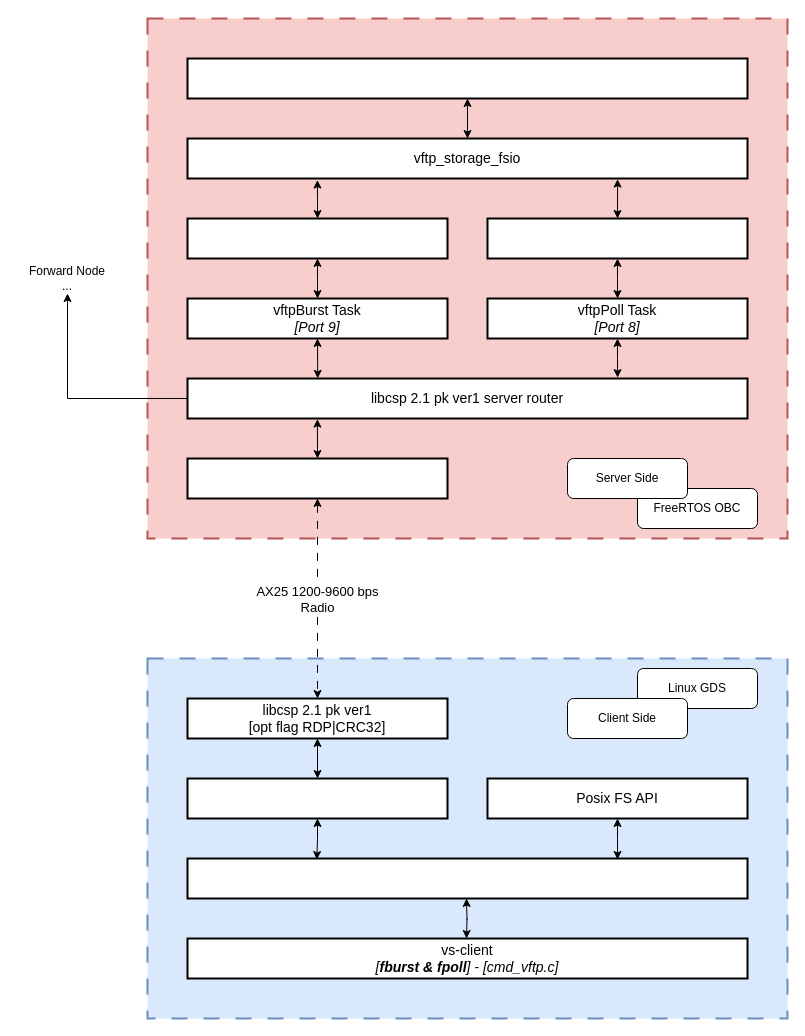
The diagram is 805 pixels wide and 1036 high, and some of its shapes have lost their labels. The centre of each missing label's shape, as x and y in pixels:
"[libvftp_client]" goes at (467,878).
"[vftp_link_csp1] MTU: 150up/211down" goes at (317,798).
"COMM" goes at (317,478).
"FsIO - HCC FAT System - SDCARD" goes at (467,78).
"vftp_burst_server" goes at (317,238).
"vftp_poll_server" goes at (617,238).
